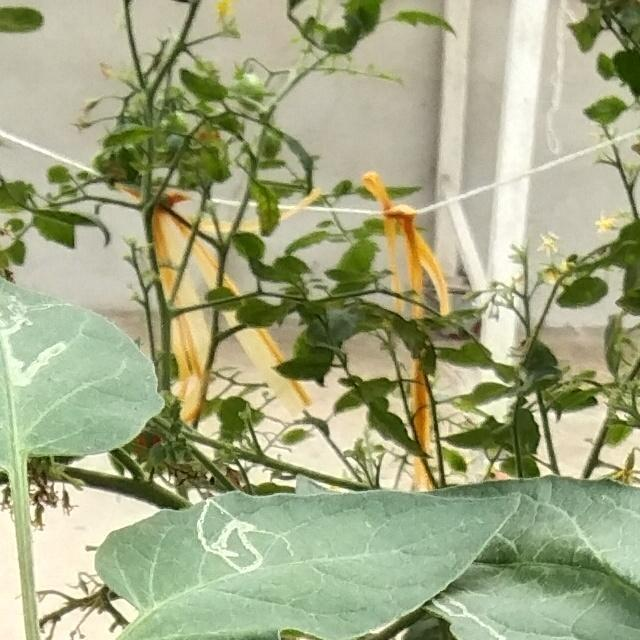Leaf_Miner: (92, 490, 522, 640), (0, 273, 163, 477), (428, 585, 508, 640)
